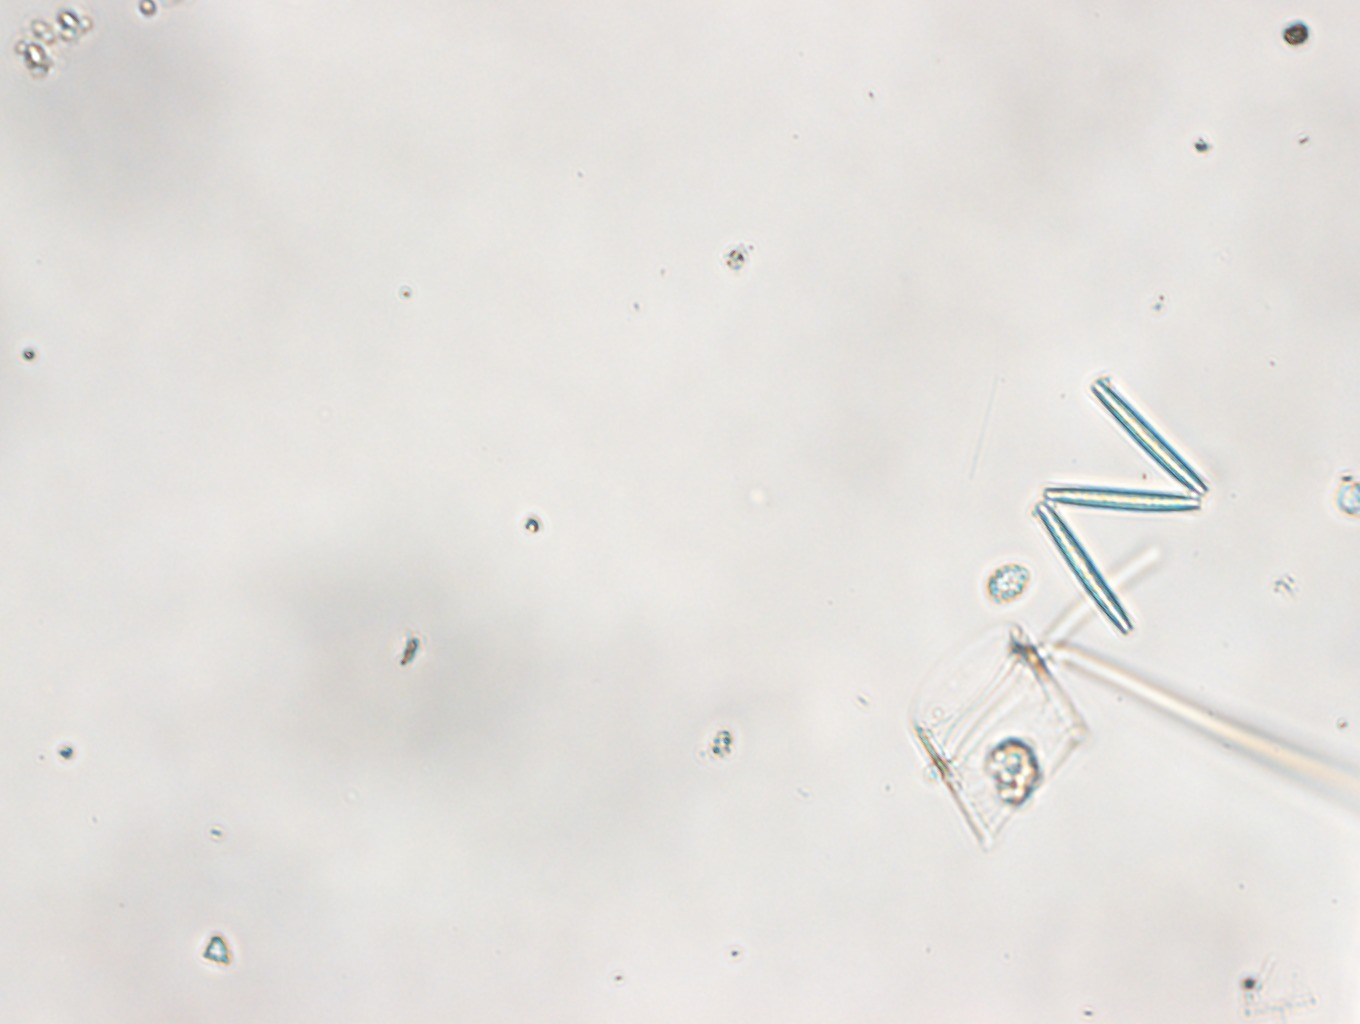thalassionema nitzschioides: (1035, 350, 1204, 648)
